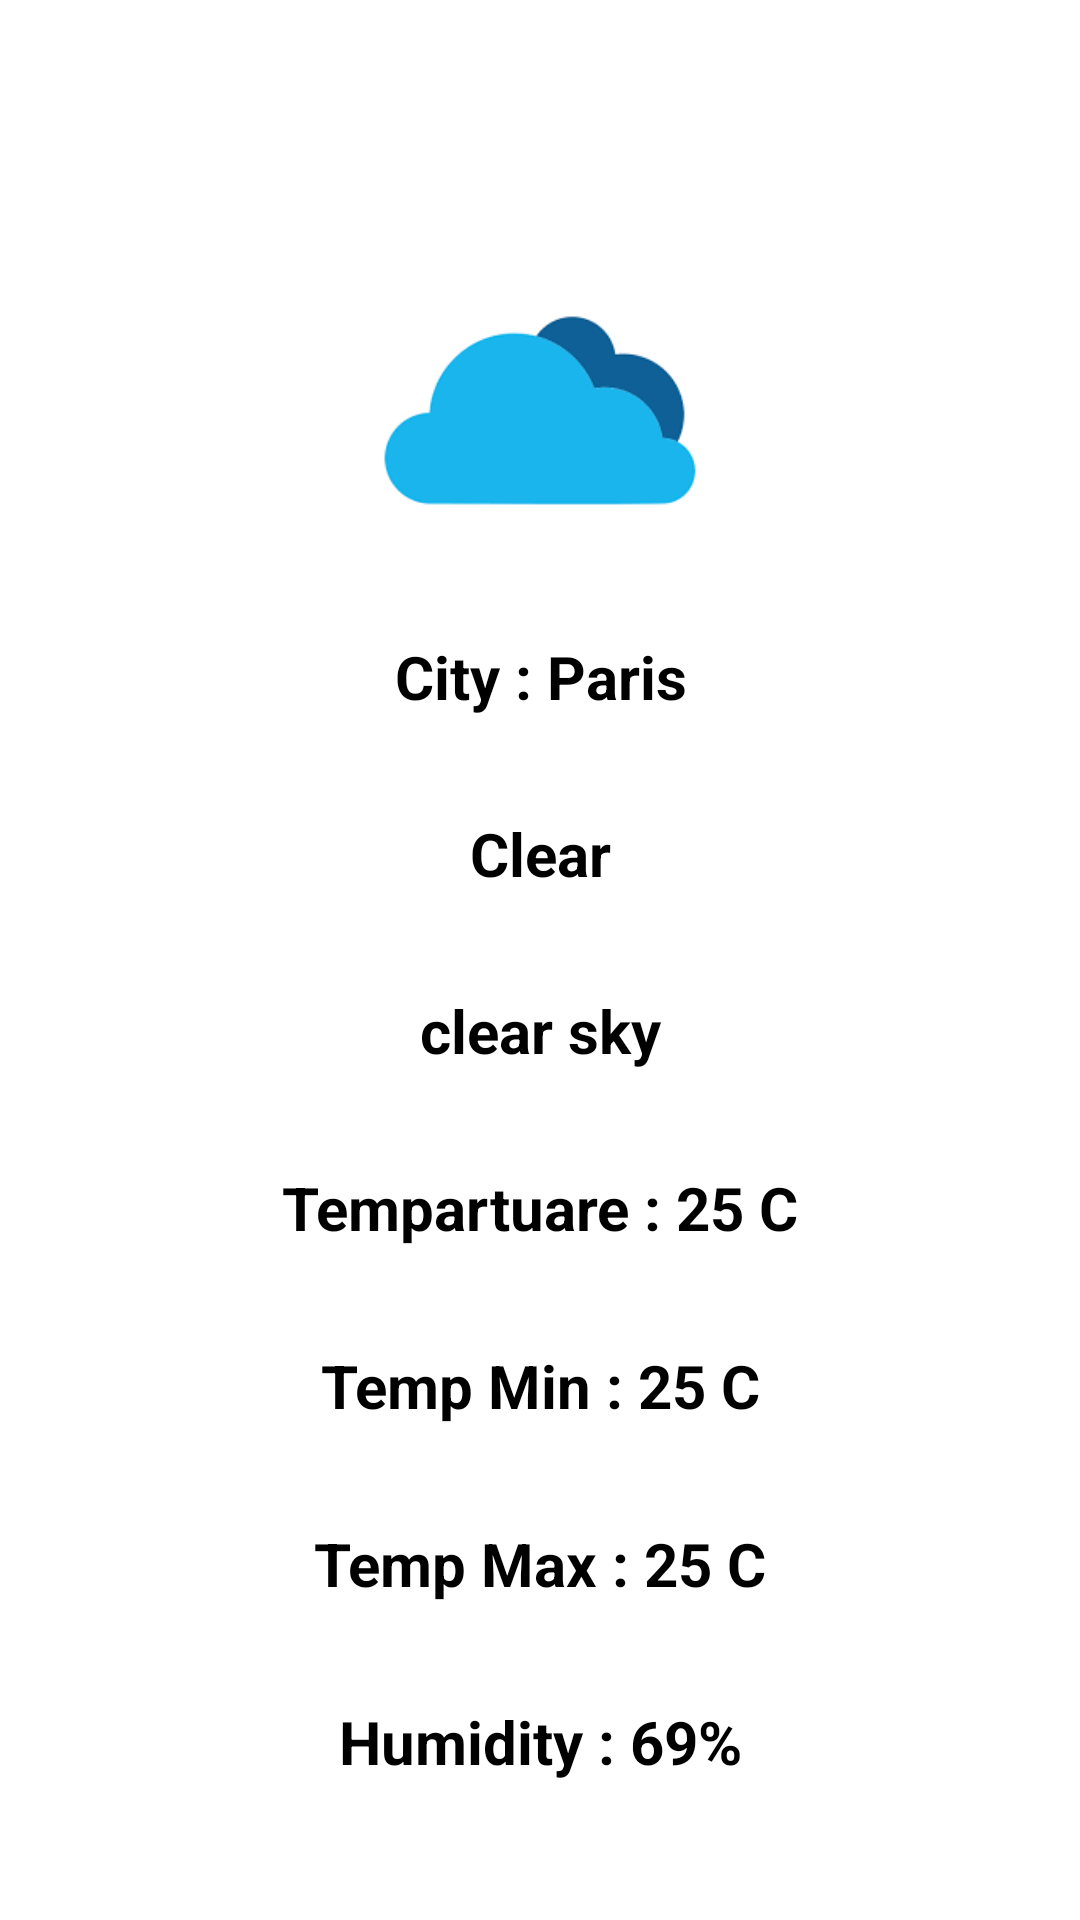

Named icons in this screenshot (1080*1920) and their bounding boxes, (x1, y1, x2, y2):
cloud: (384, 316, 696, 505)
